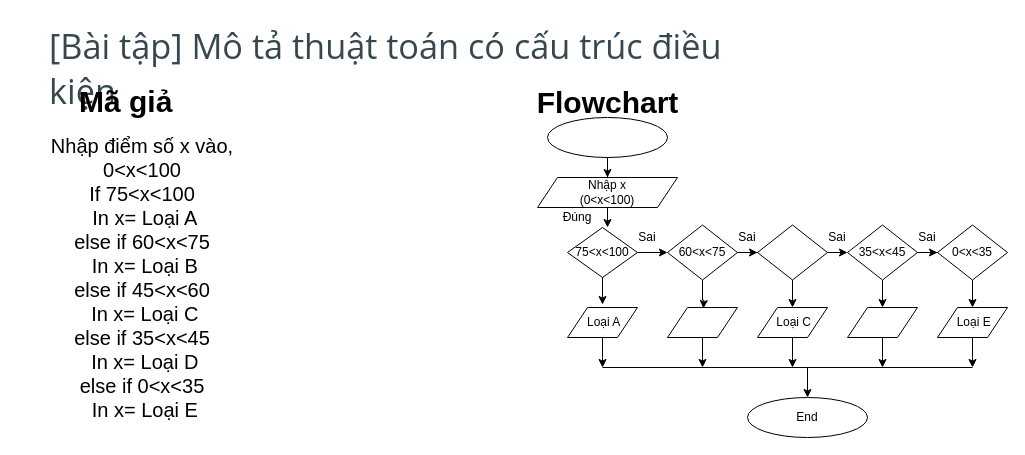
This 1025x455 diagram has some shape labels left out. Each missing label, with the centre of its shape:
45<x<60: point 792,252
Begin: point 607,137
Loại B: point 702,322
Loại D: point 882,322
